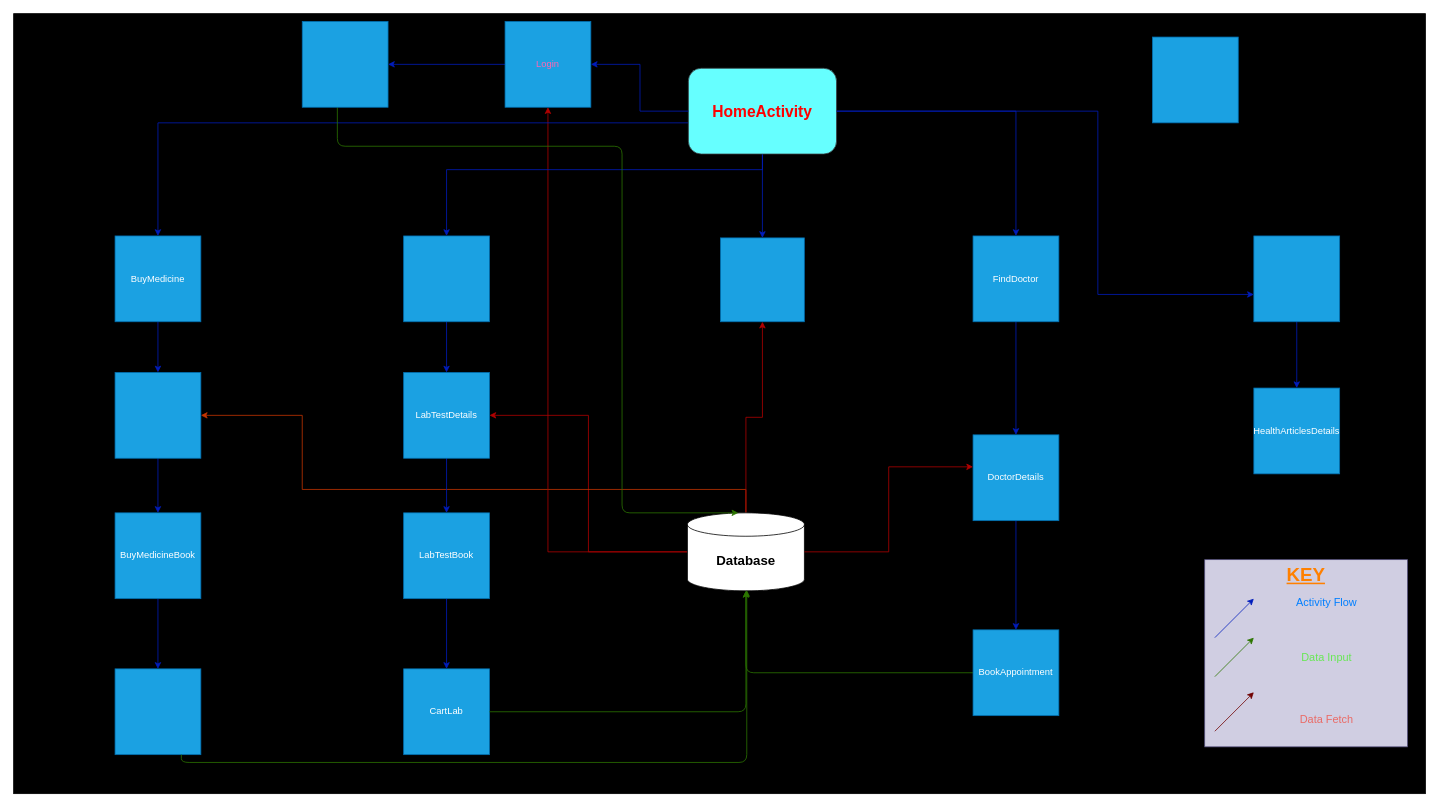
The diagram is 1439 pixels wide and 807 high, and some of its shapes have lost their labels. The centre of each missing label's shape, as x and y in pixels:
"BuyMedicineDetails" belongs at (x=157, y=415).
"CartBuyMedicine" belongs at (x=157, y=711).
"HealthArticles" belongs at (x=1296, y=278).
"LabTest" belongs at (x=446, y=278).
"MainActivity" belongs at (x=1195, y=79).
"OrderDetails" belongs at (x=762, y=279).
"Register" belongs at (x=344, y=64).
